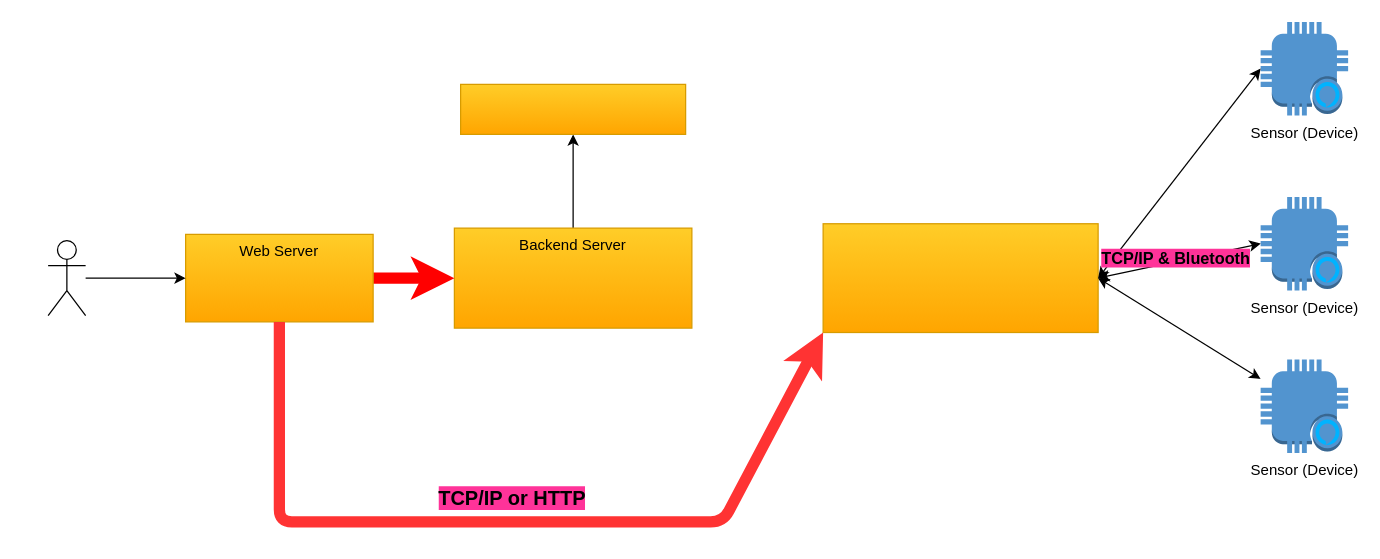
This 1380x559 diagram has some shape labels left out. Each missing label, with the box of its shape:
MongoDB: (459, 83, 686, 134)
User Browser: (47, 239, 86, 316)
Verifier (Hub): (822, 222, 1098, 332)
